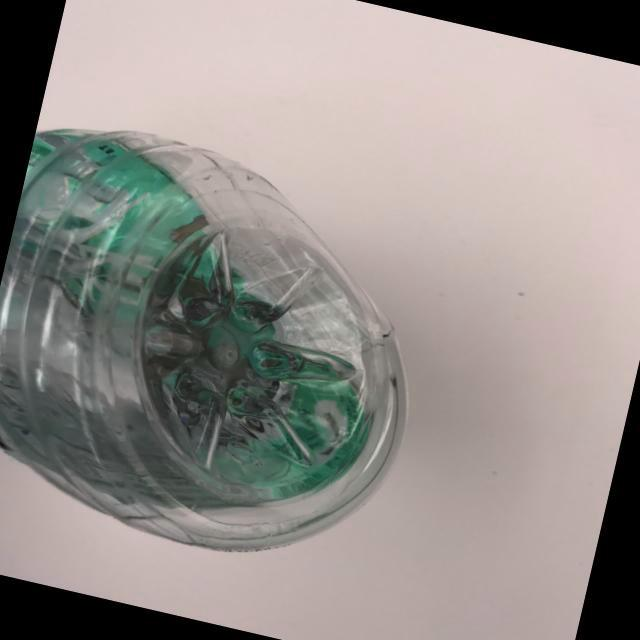plastic: (0, 53, 481, 602)
